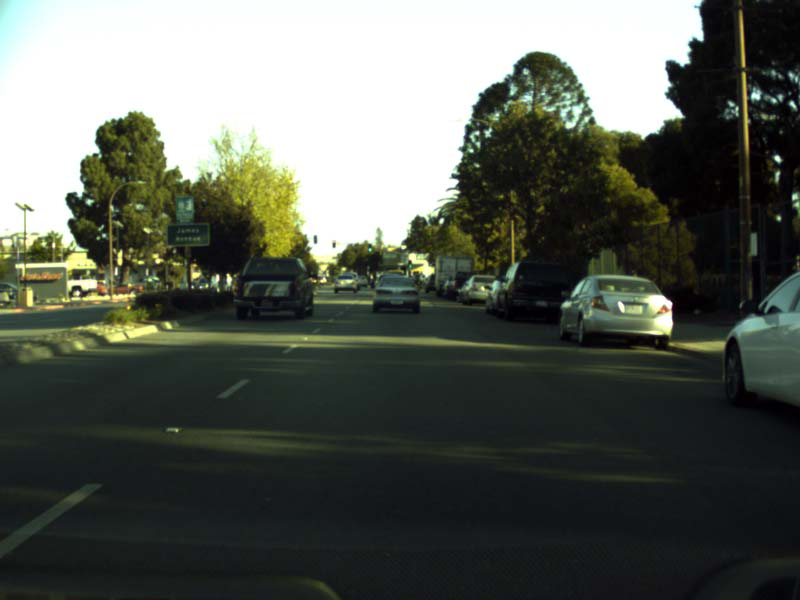Green: (368, 244, 372, 252), (407, 260, 411, 268)
Red: (331, 240, 335, 247)
